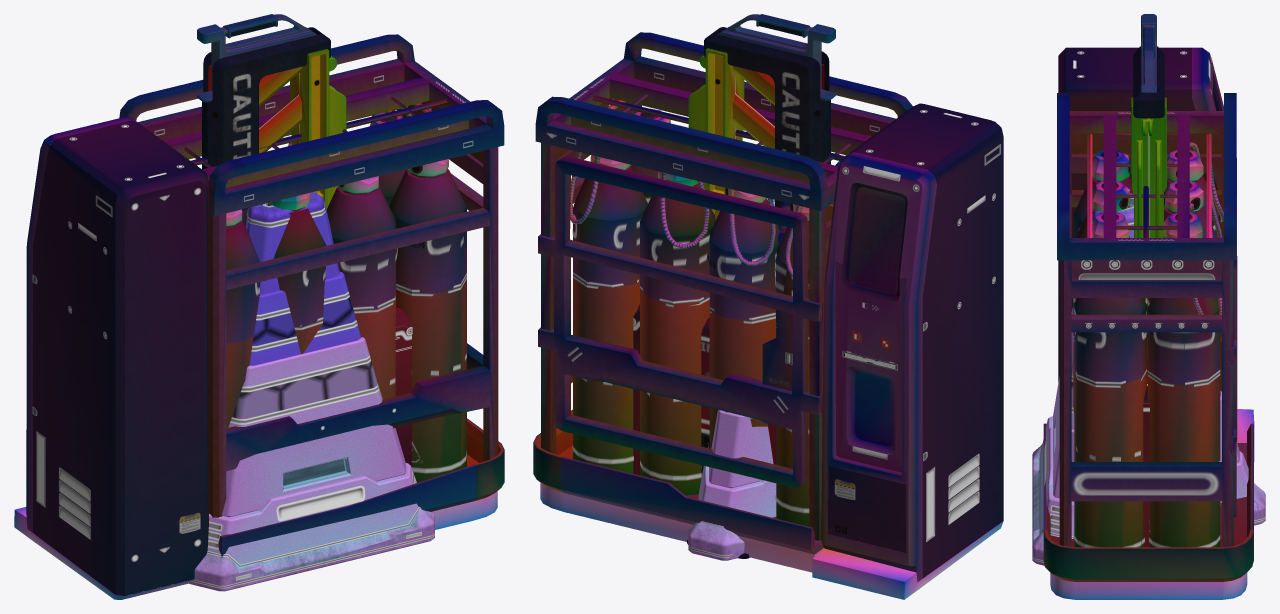
Rendered from sicherheit.glb.
3 views of the same model, side by side, from view 1: azimuth 30°, elevation 25°; view 2: azimuth 150°, elevation 25°; view 3: azimuth 270°, elevation 25° (orthographic). The views are drawn at different scales.
Visible parts, largest first — view 1: prop_sicherheit_canister_medical_1_stand_b, prop_sicherheit_cone_2_race_a, prop_sicherheit_barrier_caution_005x005x0125_a, prop_sicherheit_fire_hose_1_a; view 2: prop_sicherheit_canister_medical_1_stand_b, prop_sicherheit_barrier_caution_005x005x0125_a, prop_sicherheit_cone_2_race_a, prop_sicherheit_fire_hose_1_a; view 3: prop_sicherheit_canister_medical_1_stand_b, prop_sicherheit_barrier_caution_005x005x0125_a, prop_sicherheit_cone_2_race_a, prop_sicherheit_fire_hose_1_a.
Boxes of the visible parts, <box> form: prop_sicherheit_canister_medical_1_stand_b: <box>14,34,504,599</box>; prop_sicherheit_cone_2_race_a: <box>189,192,434,591</box>; prop_sicherheit_barrier_caution_005x005x0125_a: <box>197,14,346,220</box>; prop_sicherheit_fire_hose_1_a: <box>395,307,412,467</box>; prop_sicherheit_canister_medical_1_stand_b: <box>533,32,1003,599</box>; prop_sicherheit_barrier_caution_005x005x0125_a: <box>687,14,835,558</box>; prop_sicherheit_cone_2_race_a: <box>688,198,776,560</box>; prop_sicherheit_fire_hose_1_a: <box>633,304,776,475</box>; prop_sicherheit_canister_medical_1_stand_b: <box>1043,47,1254,599</box>; prop_sicherheit_barrier_caution_005x005x0125_a: <box>1131,14,1166,304</box>; prop_sicherheit_cone_2_race_a: <box>1032,193,1265,565</box>; prop_sicherheit_fire_hose_1_a: <box>1143,359,1149,547</box>.
Bounding box in the file's own units: 1.25 × 1.54 × 0.6921.
89 materials, 74 textured.
